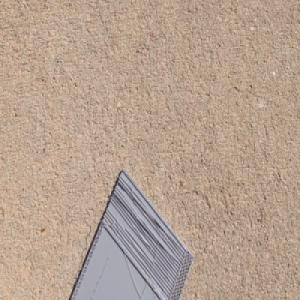PlasticPart: (68, 168, 196, 300)
